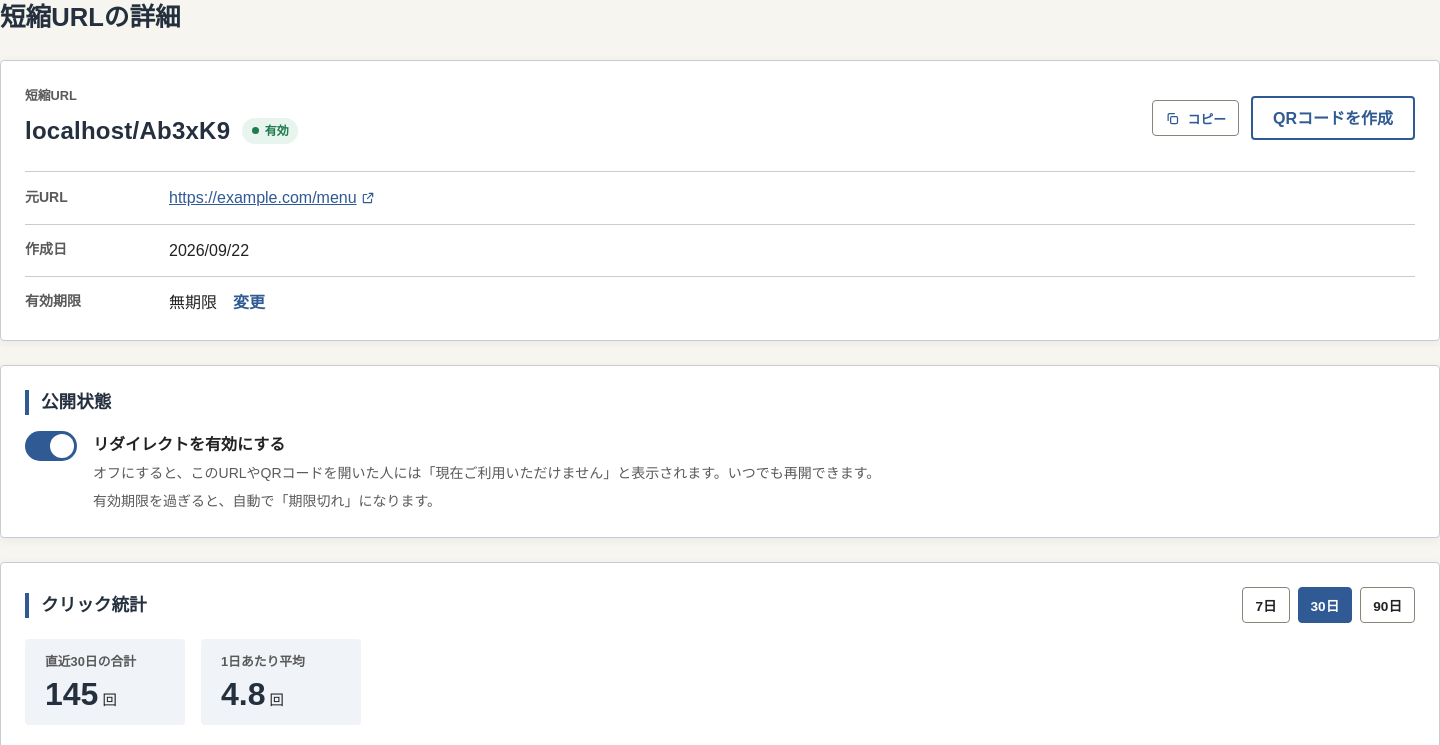
LinkDetailPage › 有効期限の変更に失敗した場合は、ダイアログを閉じずにエラーを表示する
The image size is (1440, 745).
Click the button "変更": [249, 302] box [225,289,273,316]
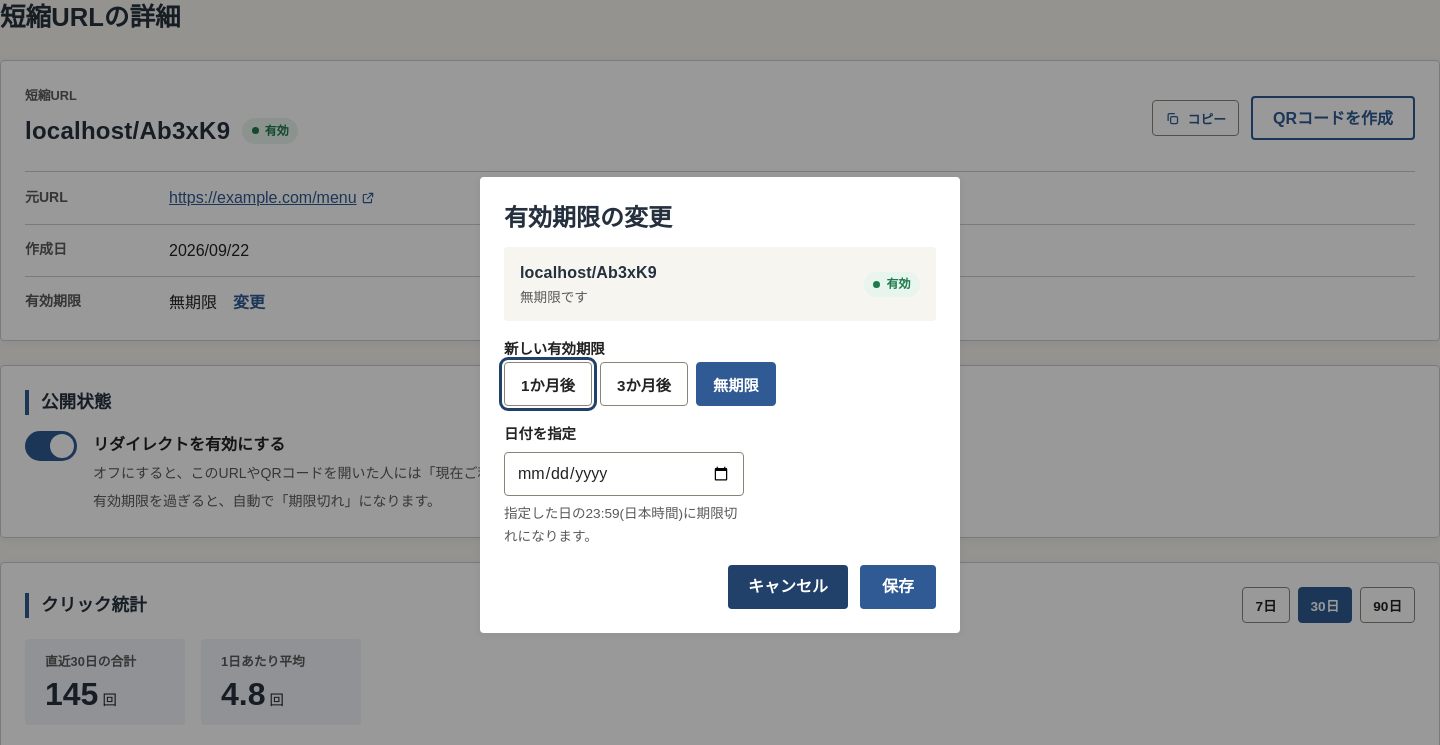
In the date field labelled "日付を指定": [624, 474] box [504,452,744,496], type "2099-12-31"
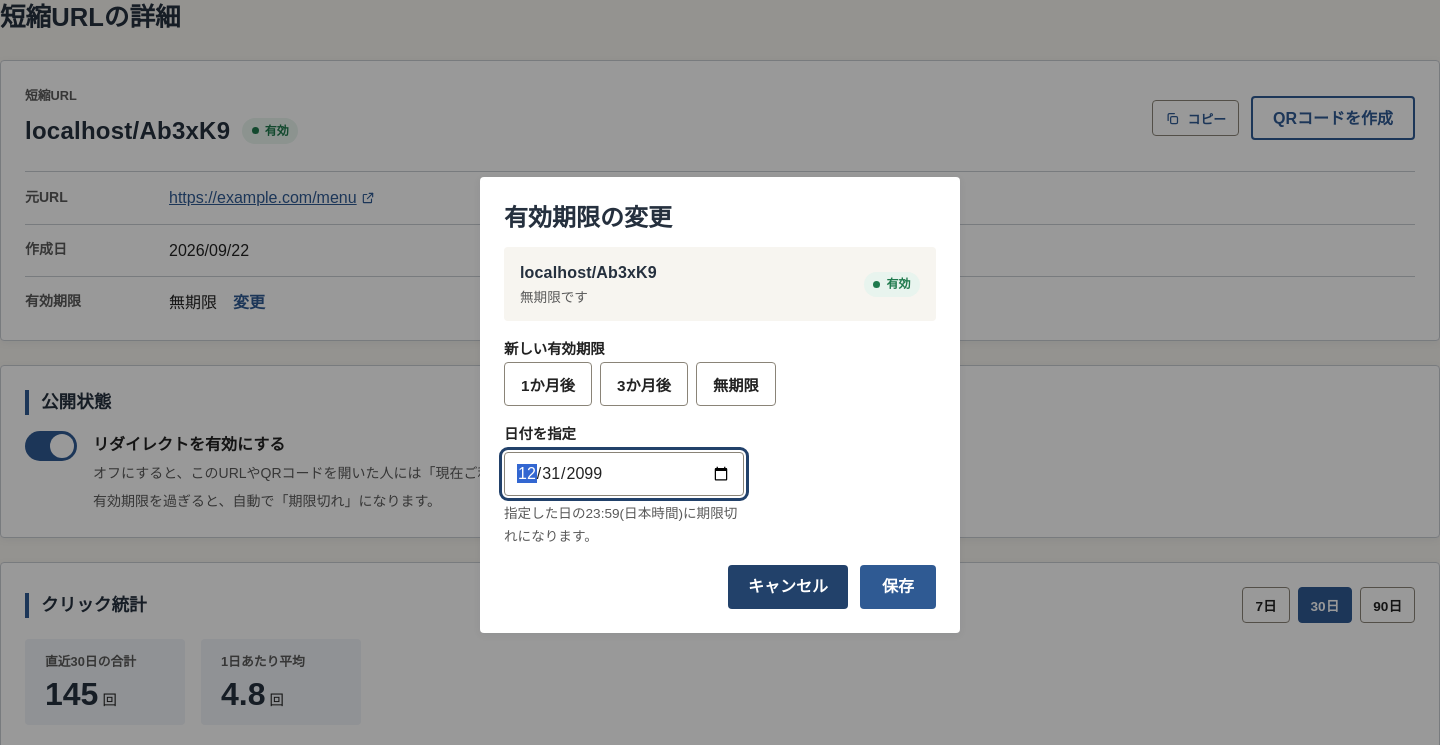
Click the button "保存": [898, 586] box [860,564,936,608]
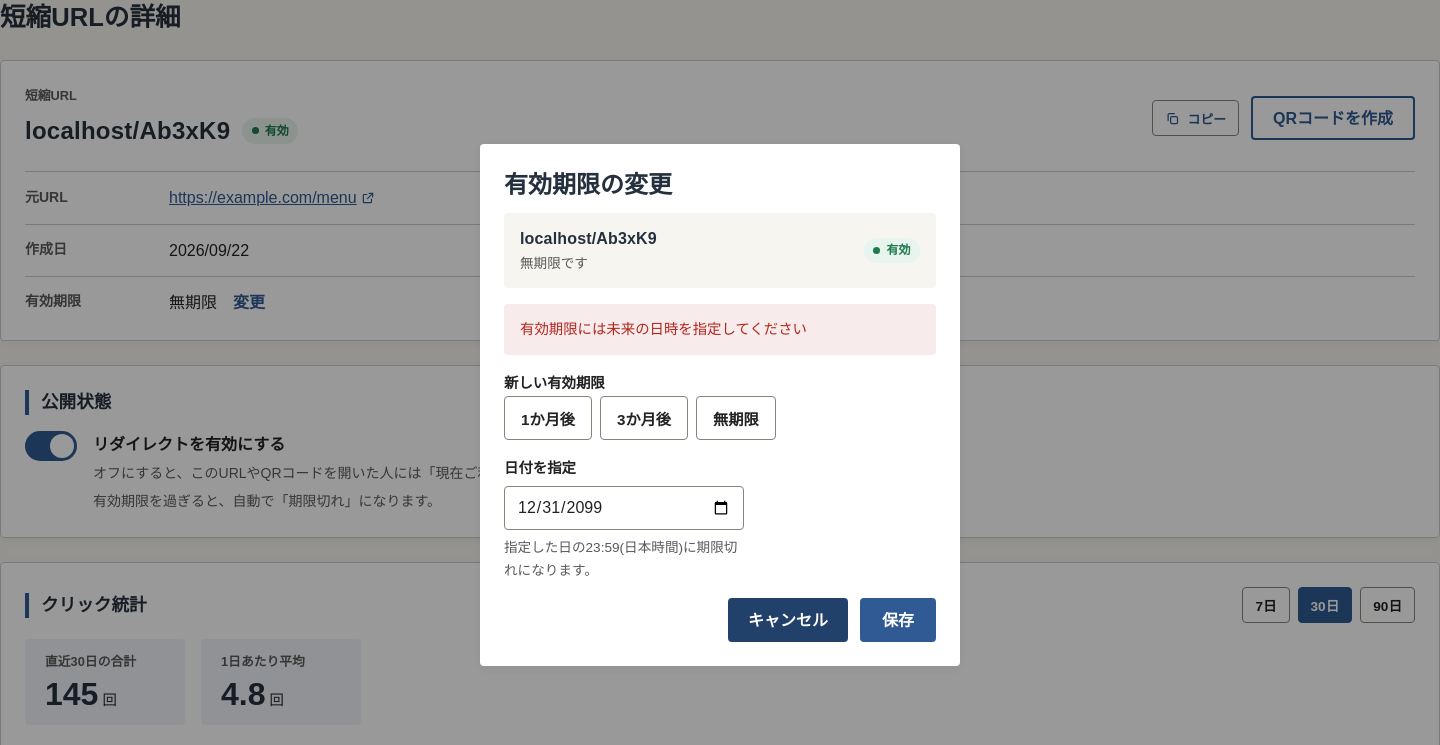
Result: the text "有効期限には未来の日時を指定してください" is shown at [504,304,936,355]
